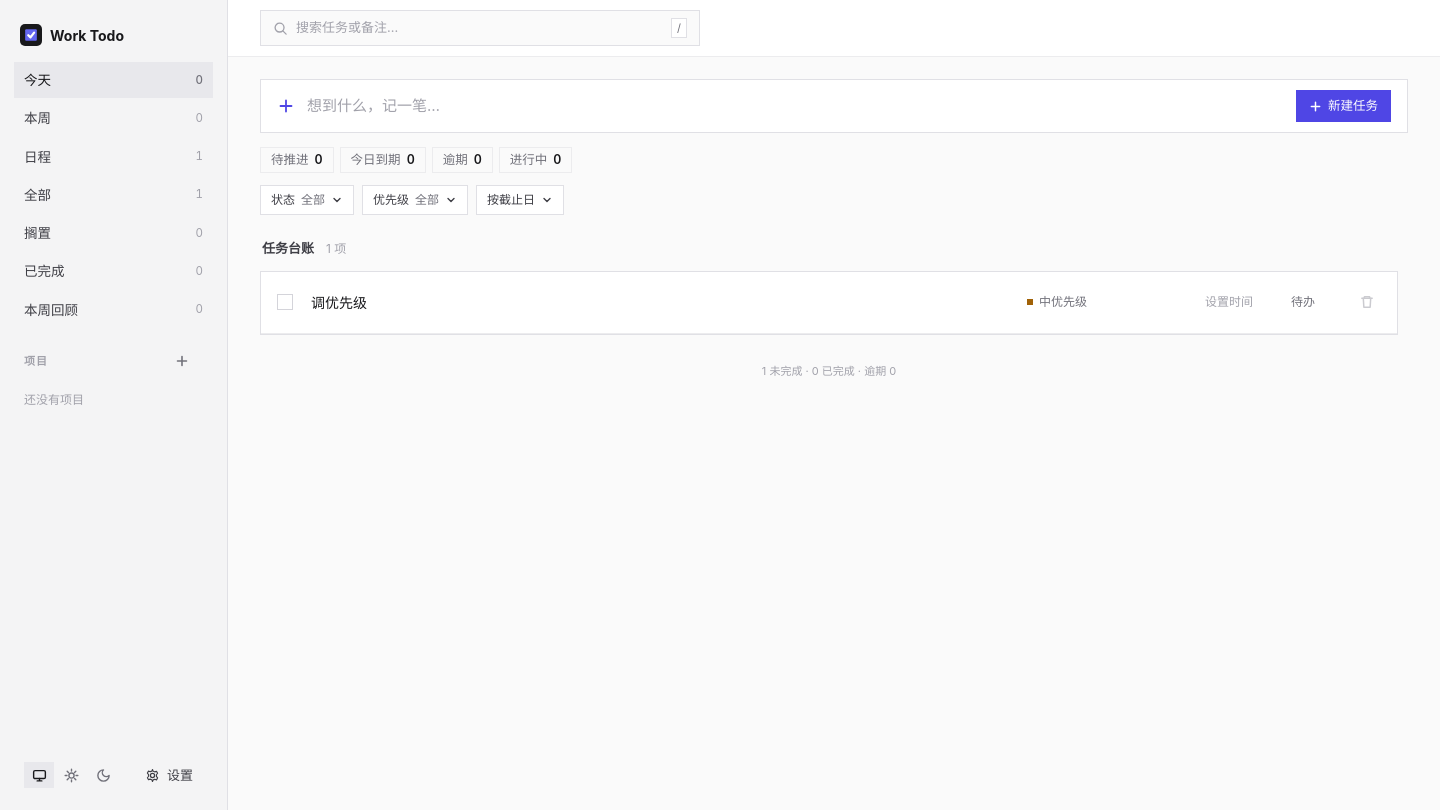
inline priority edit (row cell → prio menu) › clicking .task-col-prio opens the menu and applying a pick updates the store
Click the button with class "task-col-prio": {"x": 1079, "y": 302} top-left (1027, 293), bottom-right (1131, 311)
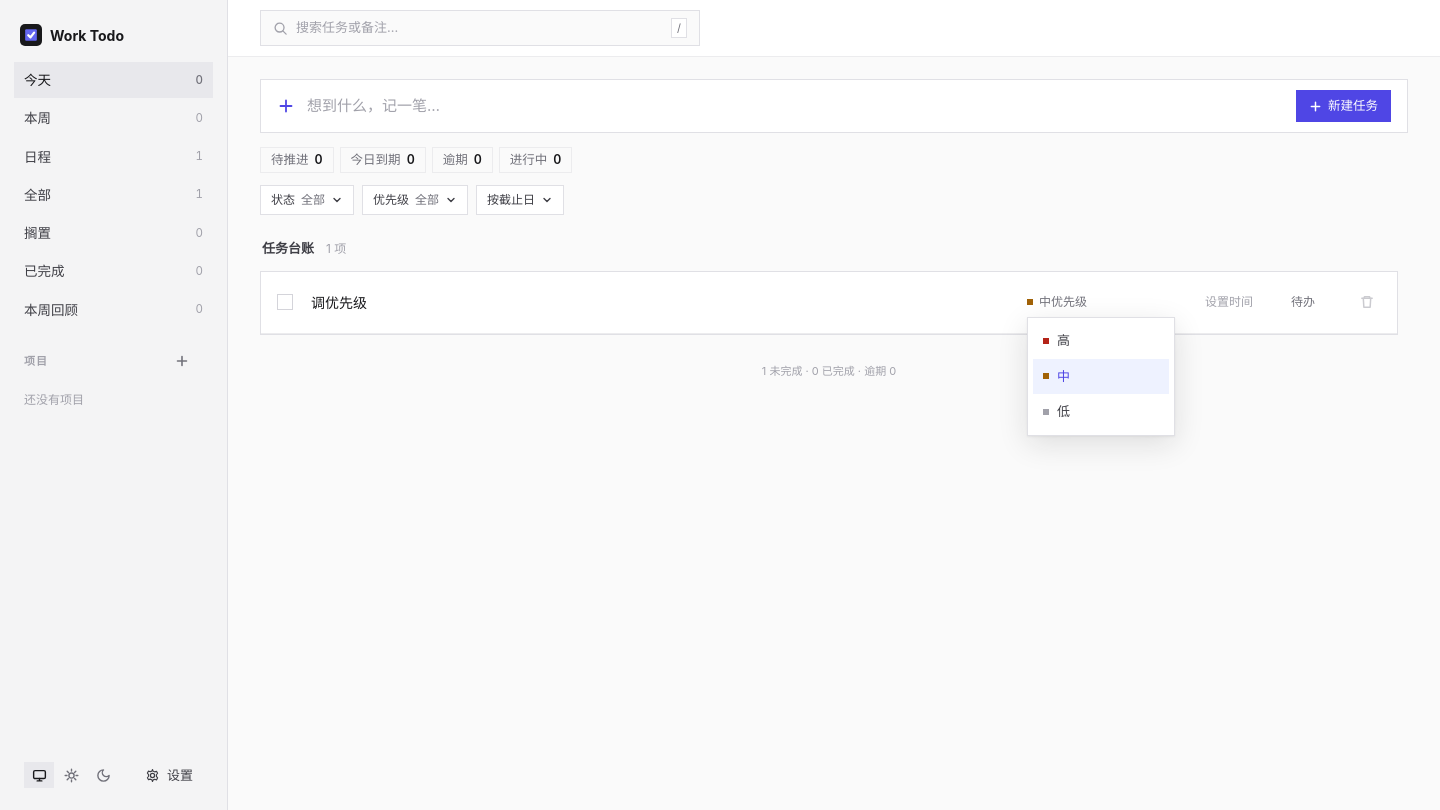
Click the menu item with class "row-menu-item" showing "高": {"x": 1101, "y": 341} top-left (1033, 323), bottom-right (1169, 358)
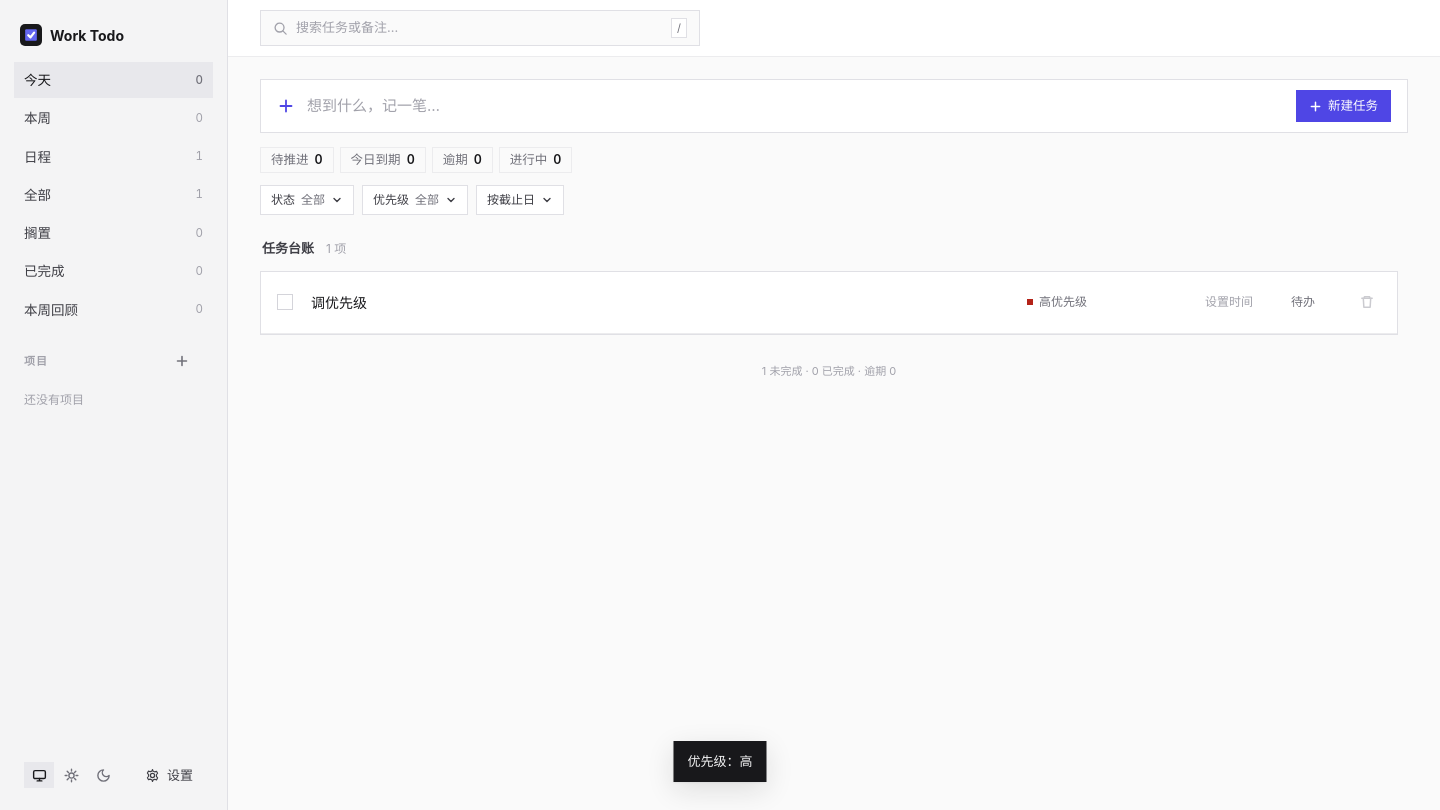
Expected: the message with id "toast" reads "优先级：高", top-left (688, 752), bottom-right (752, 768)
Expected: the menu is gone
